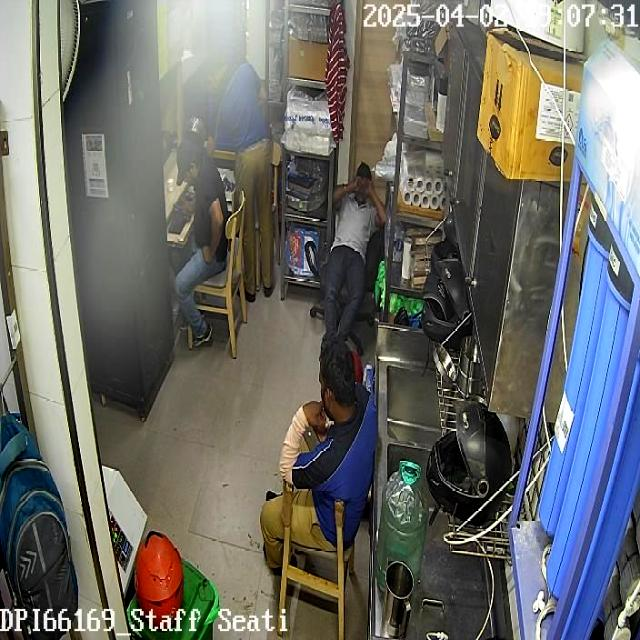helmet: (425, 397, 511, 526), (135, 530, 184, 632)
no_helmet: (317, 333, 357, 423), (175, 141, 204, 186)
